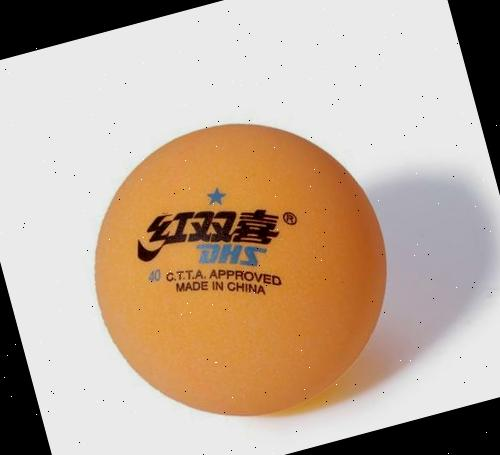ball: (55, 84, 423, 452)
